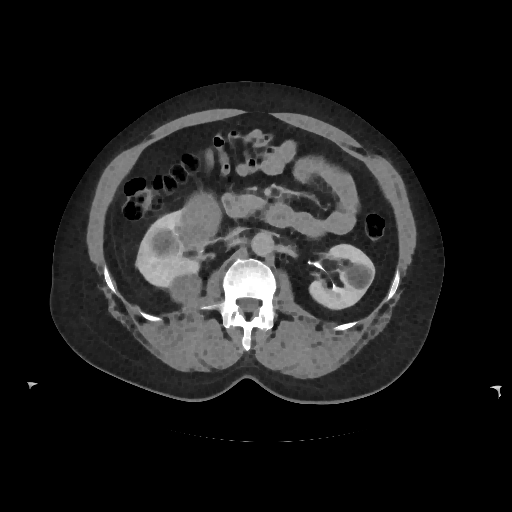Lesion: (172, 190, 225, 252)
